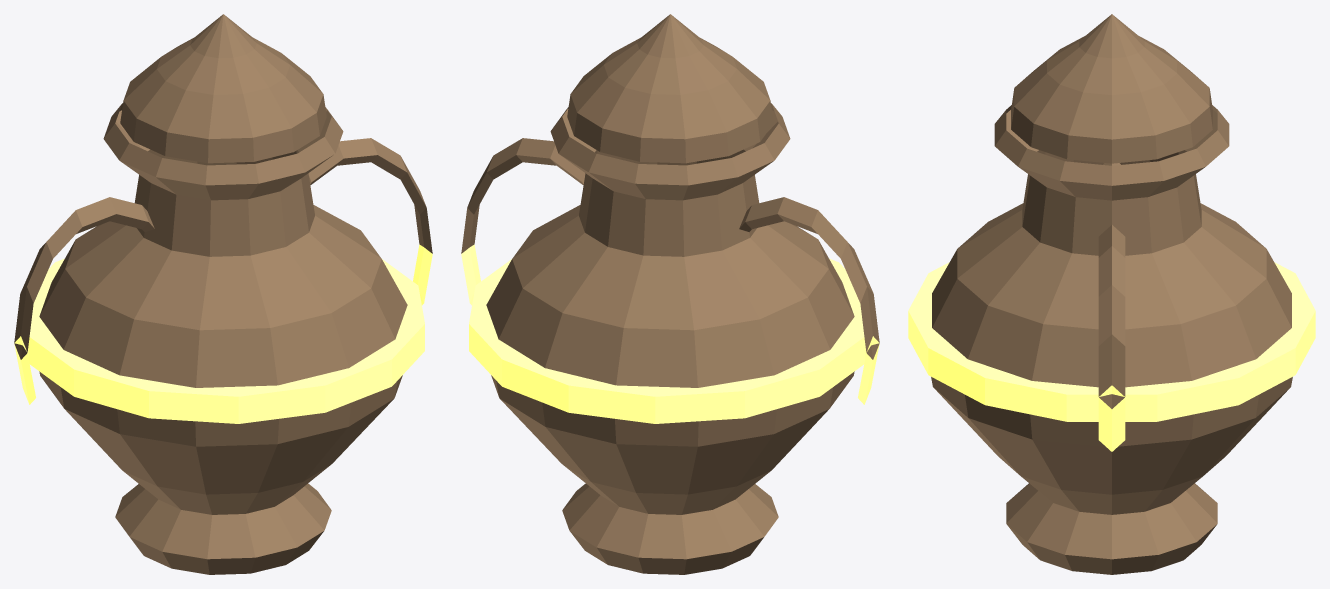
Rendered from relic_urn.glb.
3 views of the same model, side by side, from view 1: azimuth 30°, elevation 25°; view 2: azimuth 150°, elevation 25°; view 3: azimuth 270°, elevation 25° (orthographic).
Parts seen in each view (by area): view 1: RelicUrn; view 2: RelicUrn; view 3: RelicUrn.
Boxes of the visible parts, x1,y1,x2,y2 form: RelicUrn: (14, 14, 432, 574); RelicUrn: (461, 14, 879, 574); RelicUrn: (908, 14, 1315, 574).
Size of the model in its own units: 2.8 by 3.45 by 2.44.
